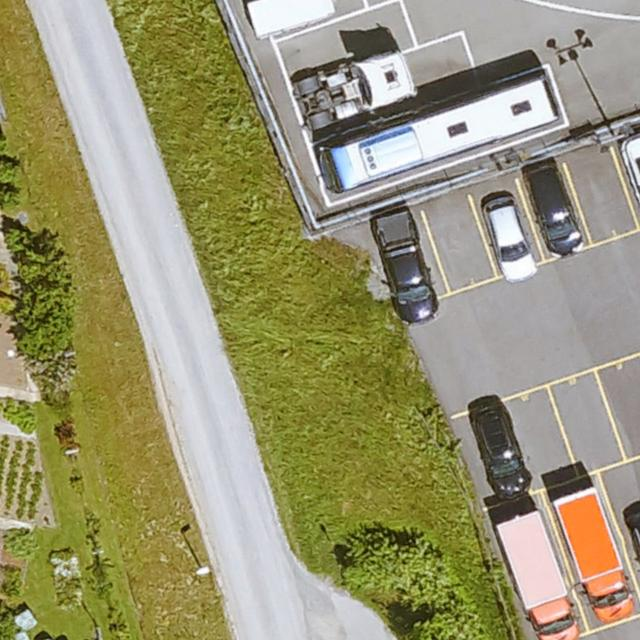tree: (399, 613, 466, 640)
